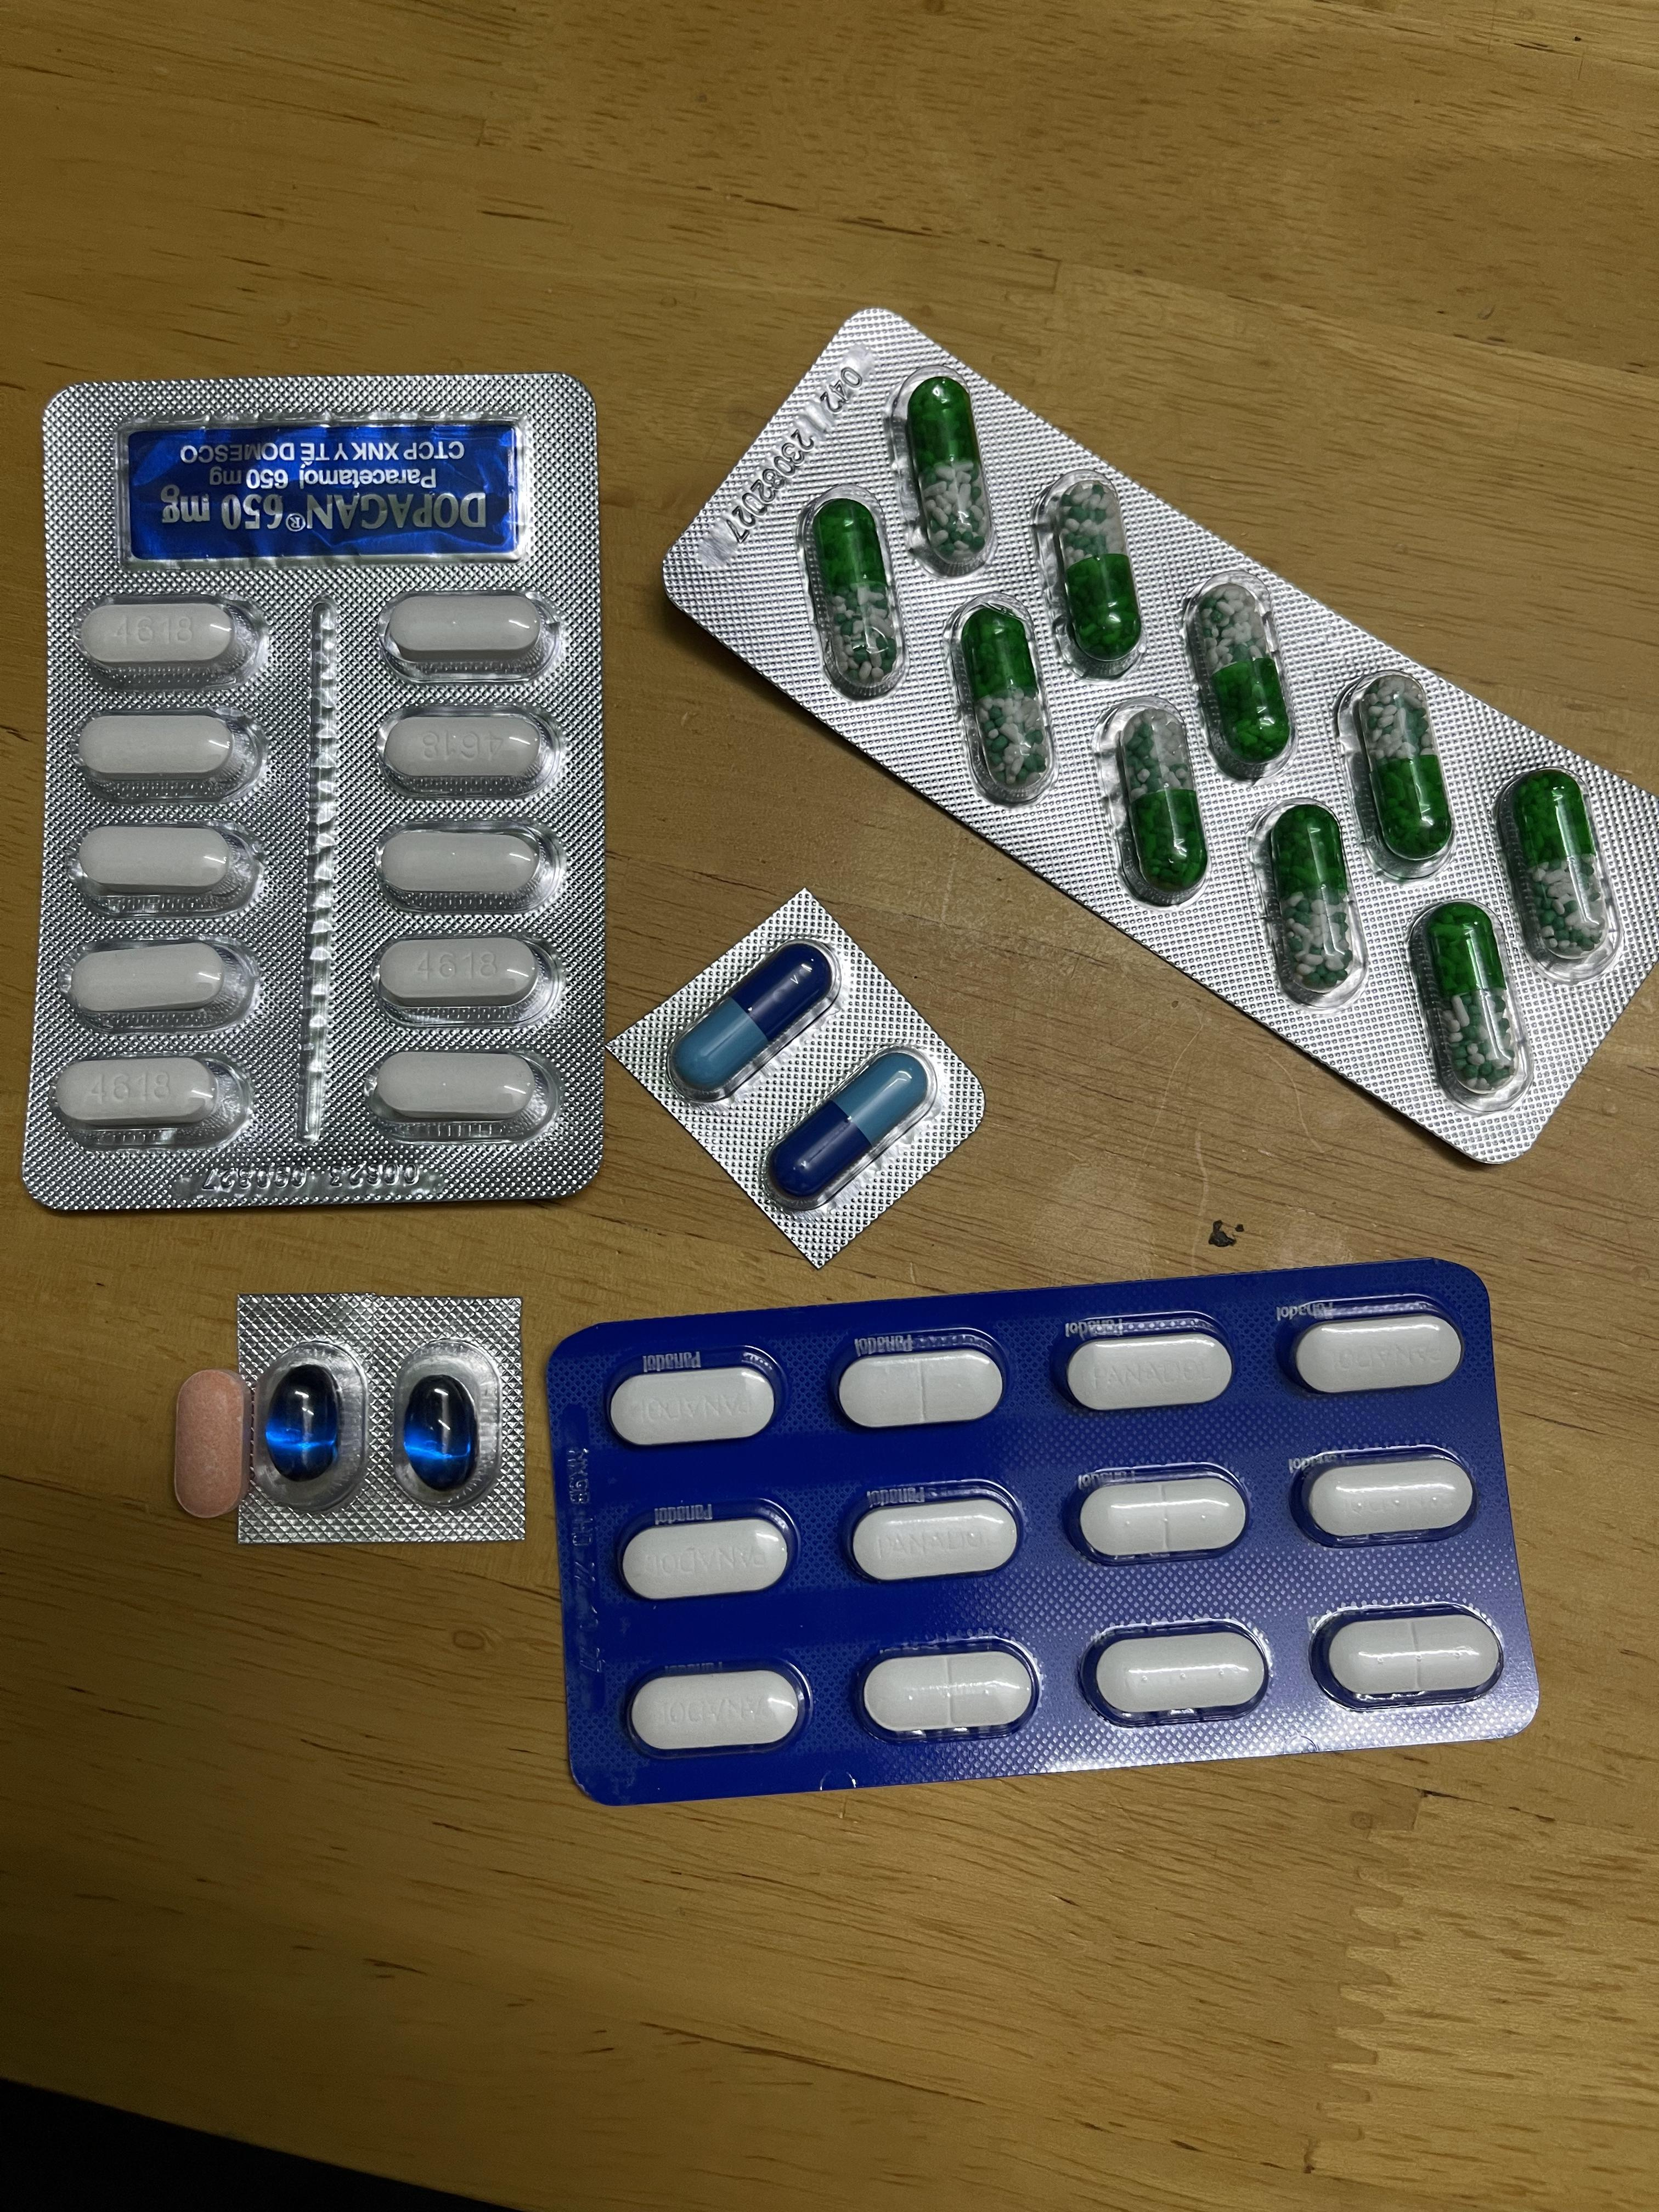Lincomyxin_500mg: (401, 1374, 479, 1487), (263, 1369, 343, 1479)
Loratadine_10mg: (171, 1369, 246, 1519)
Paracetamol_350mg: (1291, 1449, 1480, 1543), (843, 1486, 1021, 1581), (1087, 1627, 1269, 1719), (1317, 1611, 1502, 1702), (626, 1665, 809, 1756), (617, 1507, 793, 1601), (1070, 1470, 1248, 1561), (1056, 1322, 1232, 1413), (1283, 1310, 1466, 1397), (859, 1648, 1037, 1737), (833, 1343, 1006, 1430), (606, 1362, 777, 1447)
Paracetamol_500mg: (51, 1050, 251, 1144), (59, 939, 256, 1021), (66, 822, 256, 902), (366, 1047, 551, 1123), (376, 824, 554, 902), (77, 599, 260, 674), (73, 711, 256, 786), (371, 935, 549, 1010), (378, 709, 554, 784), (380, 589, 551, 662)
Paracetamol_650mg: (1347, 671, 1455, 867), (1037, 475, 1143, 674), (1183, 582, 1291, 773), (1098, 702, 1206, 894), (1509, 770, 1612, 967), (951, 603, 1051, 803), (1260, 803, 1358, 1000), (1420, 904, 1518, 1101), (809, 496, 901, 693), (899, 374, 992, 570)
pill: (772, 1052, 931, 1205), (676, 946, 831, 1089)
